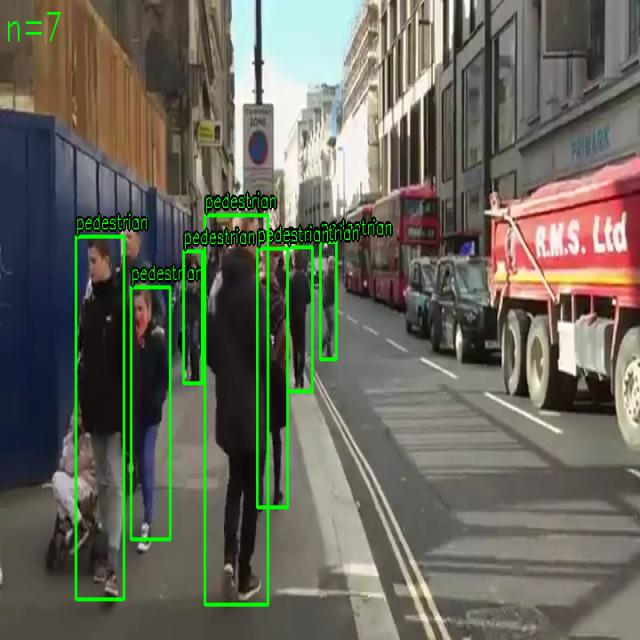with scooter: (204, 215, 268, 605), (76, 236, 124, 600), (130, 287, 170, 540), (257, 248, 288, 508), (287, 247, 313, 392), (183, 251, 203, 384), (320, 241, 337, 360)
